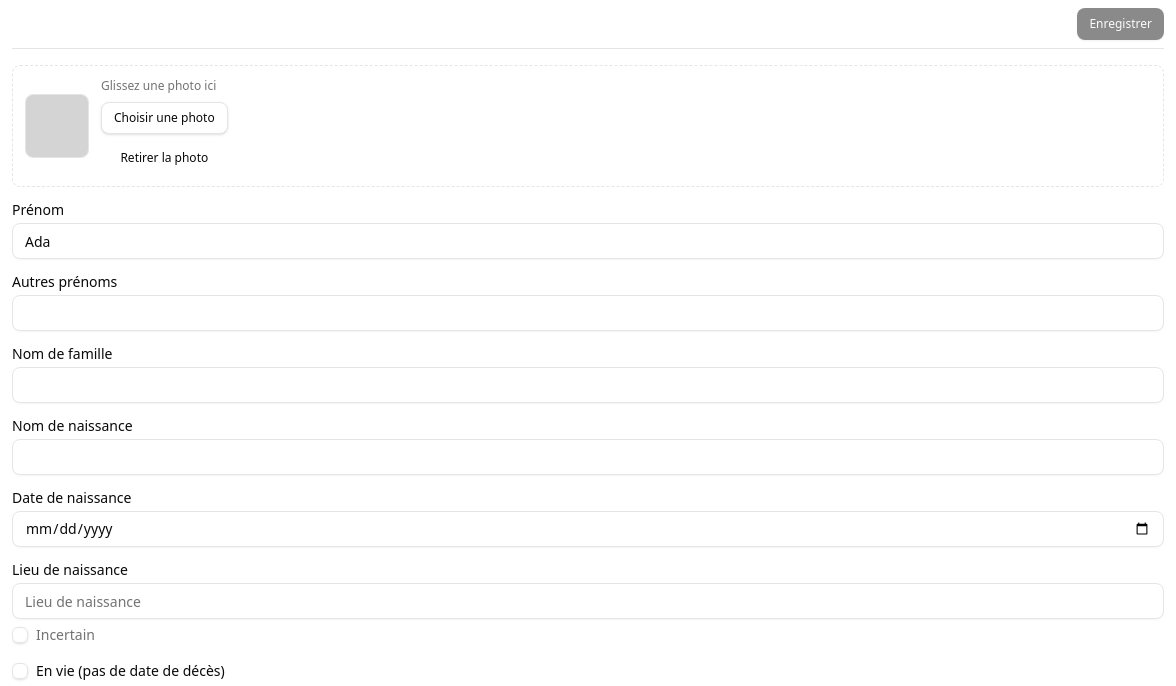
it: PersonForm validation › shows the photo preview and removes it
The width and height of the screenshot is (1176, 686).
Click the button "Retirer la photo": [164, 158] box 101,142 -> 228,174
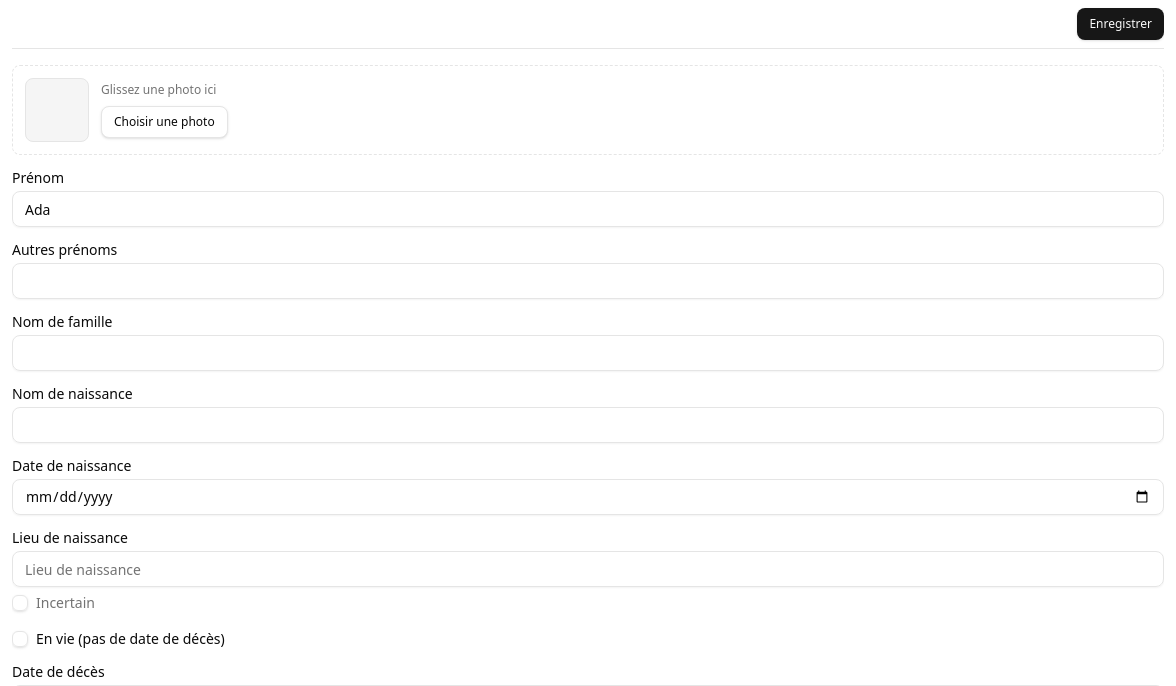
expect the picture is gone: met
